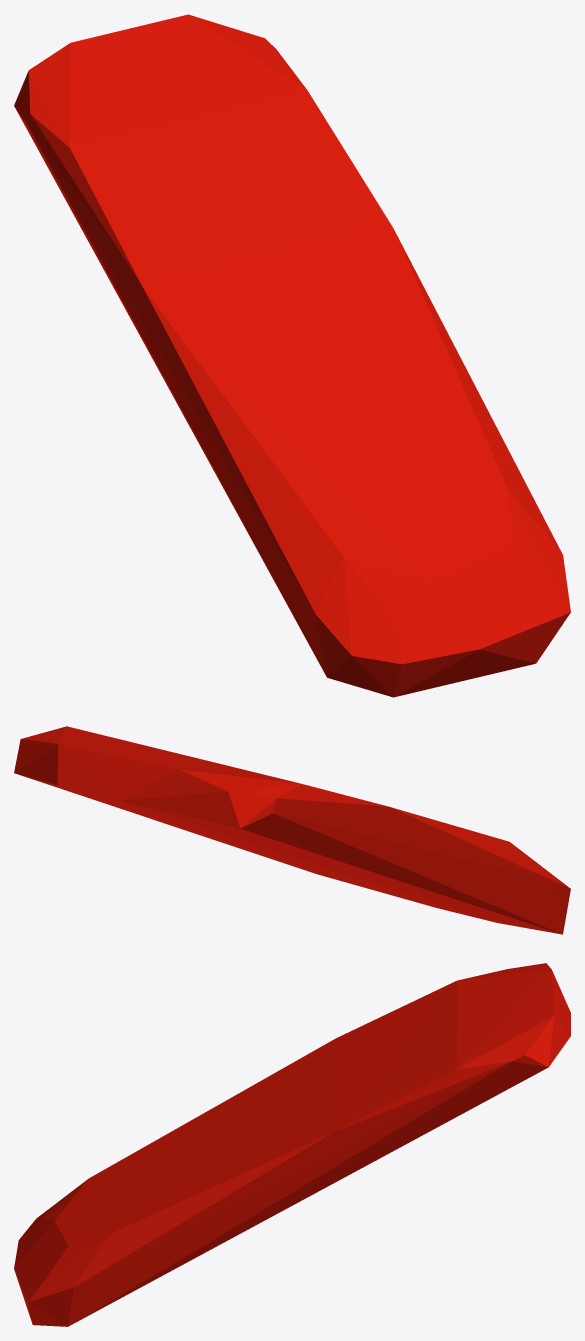
Rendered from toe-roll_convex_piece_003.obj.
The picture shows the model from 3 angles, top to bottom: view 1: azimuth 30°, elevation 25°; view 2: azimuth 150°, elevation 25°; view 3: azimuth 270°, elevation 25°; orthographic projection. The views are drawn at different scales.
Size of the model in its own units: 0.0844 by 0.1303 by 0.2133.
